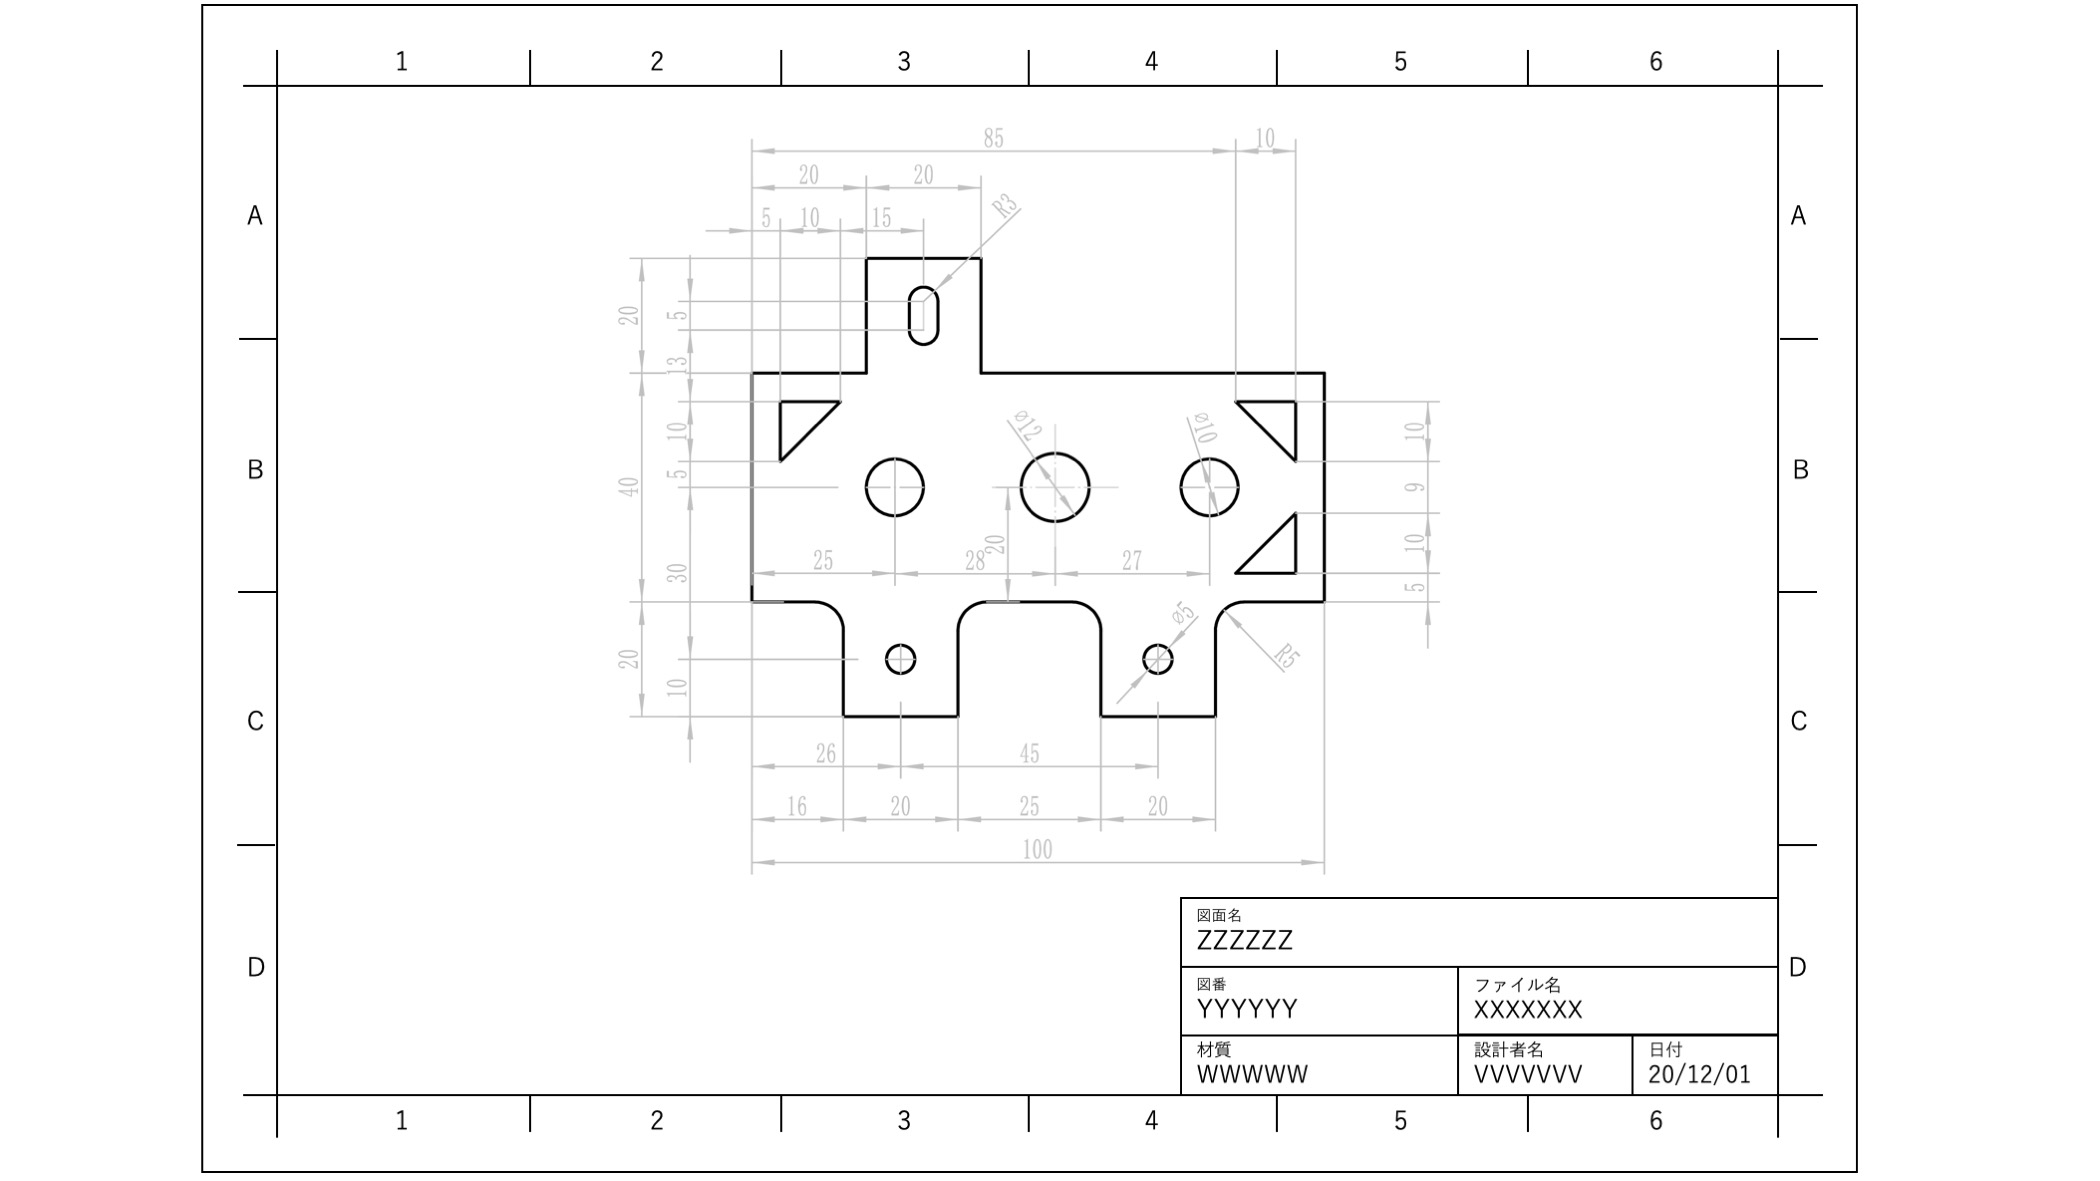circle: (1012, 443, 1099, 532), (1171, 448, 1248, 529), (857, 446, 935, 523), (1132, 634, 1181, 678), (878, 629, 917, 682)
round_rectangle: (901, 275, 942, 353)
triangle: (1230, 391, 1307, 466), (1233, 505, 1302, 583), (776, 389, 839, 467)
